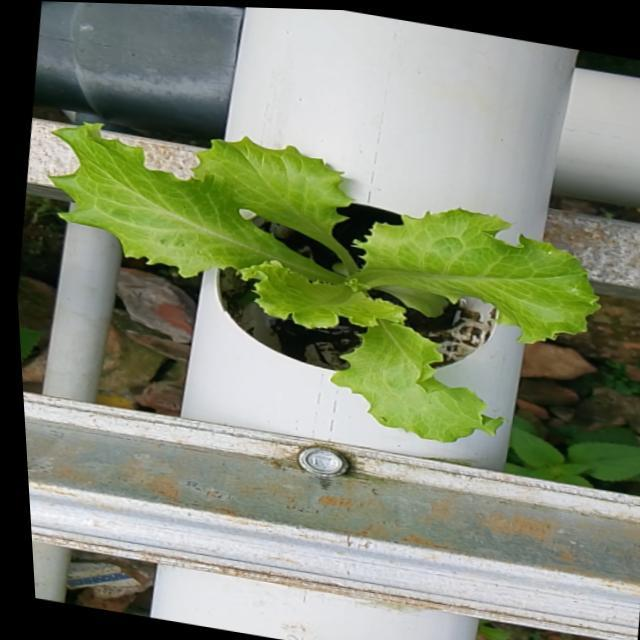Baby: (53, 126, 603, 444)
